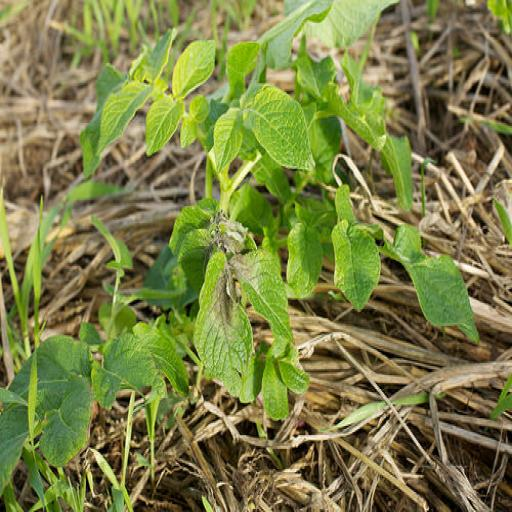disease_tomato: (188, 243, 257, 406), (230, 244, 297, 349)
